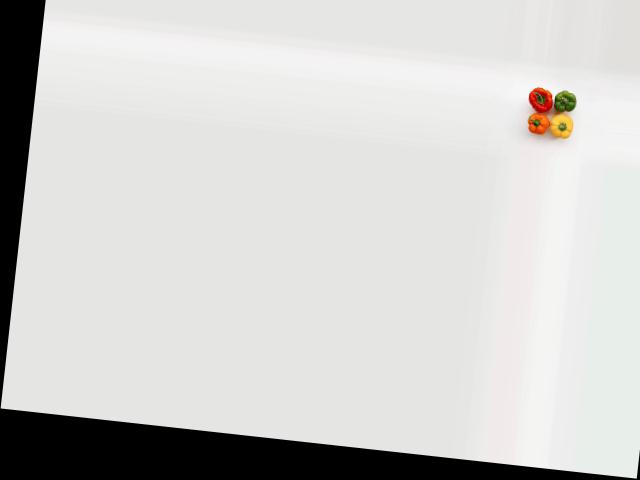bell_pepper: (547, 87, 584, 116)
